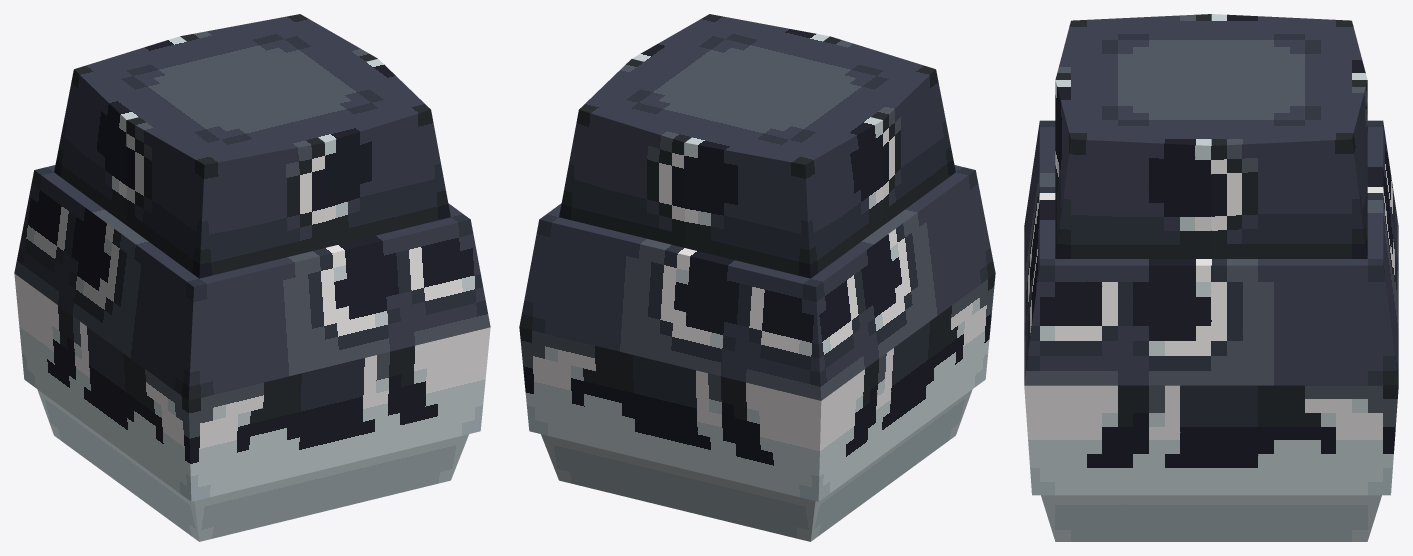
The model's file is black-and-white-egg.gltf.
3 renders of one model, left to right at view 1: azimuth 30°, elevation 25°; view 2: azimuth 150°, elevation 25°; view 3: azimuth 270°, elevation 25°, orthographic. The views are drawn at different scales.
Parts seen in each view (by area): view 1: cube (×3); view 2: cube (×3); view 3: cube (×3).
Part boxes in pixels (x1,y1,x2,y2): cube (×3): (14, 14, 490, 541); cube (×3): (519, 14, 995, 541); cube (×3): (1024, 14, 1398, 541).
Size of the model in its own units: 0.75 by 0.875 by 0.75.
Materials: 1 (1 with a texture image).
